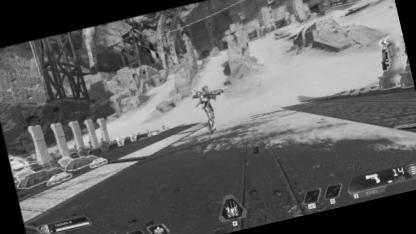Target: (197, 84, 219, 132)
